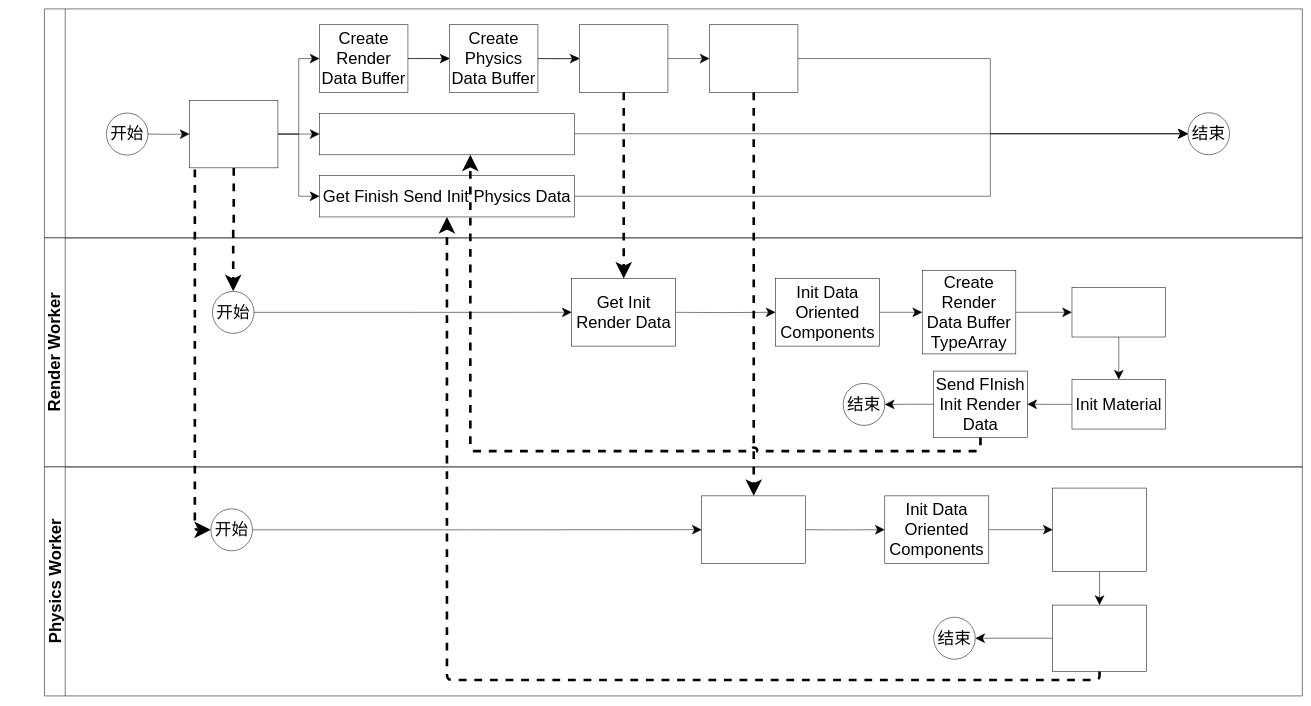
The diagram is 1311 pixels wide and 706 high, and some of its shapes have lost their labels. Each missing label, with the box of its shape:
Create GL: (1071, 287, 1166, 337)
Create Physics Data Buffer TypeArray: (1052, 488, 1146, 571)
Create Worker Instance: (189, 100, 278, 168)
Get Finish Send Init Render Data: (319, 113, 574, 155)
Get Init Physics Data: (701, 495, 806, 563)
Main Worker: (44, 8, 1302, 238)
Send FInish Init Physics Data: (1052, 605, 1146, 671)
Send Init Physics Data: (709, 24, 798, 92)
Send Init Render Data: (579, 24, 668, 92)
